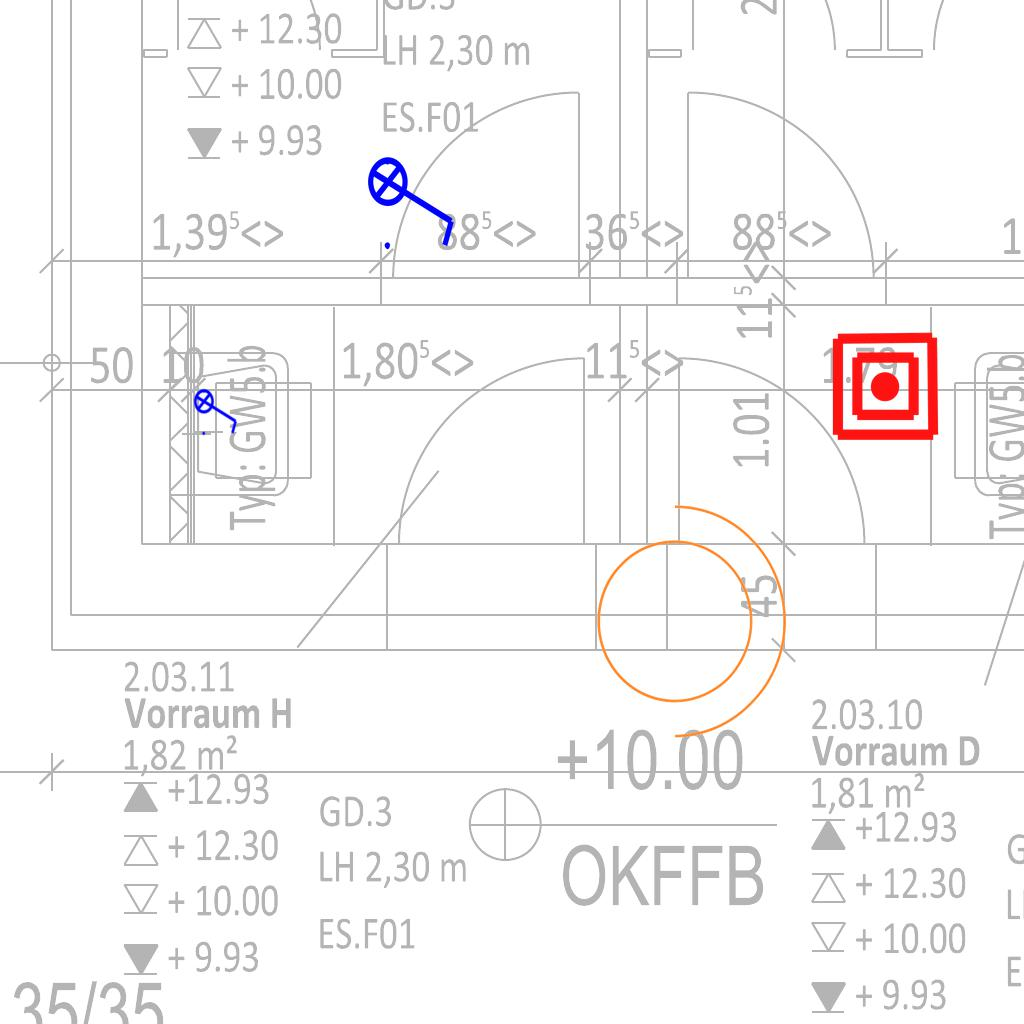Ausschalter_beleuchtet: (366, 143, 462, 255), (193, 382, 241, 438)
NAM-Nichtautomatischer_Melder: (829, 330, 942, 443)
Scheinwerfer_fuer_Alarmbeleuchtung: (572, 483, 797, 747)
